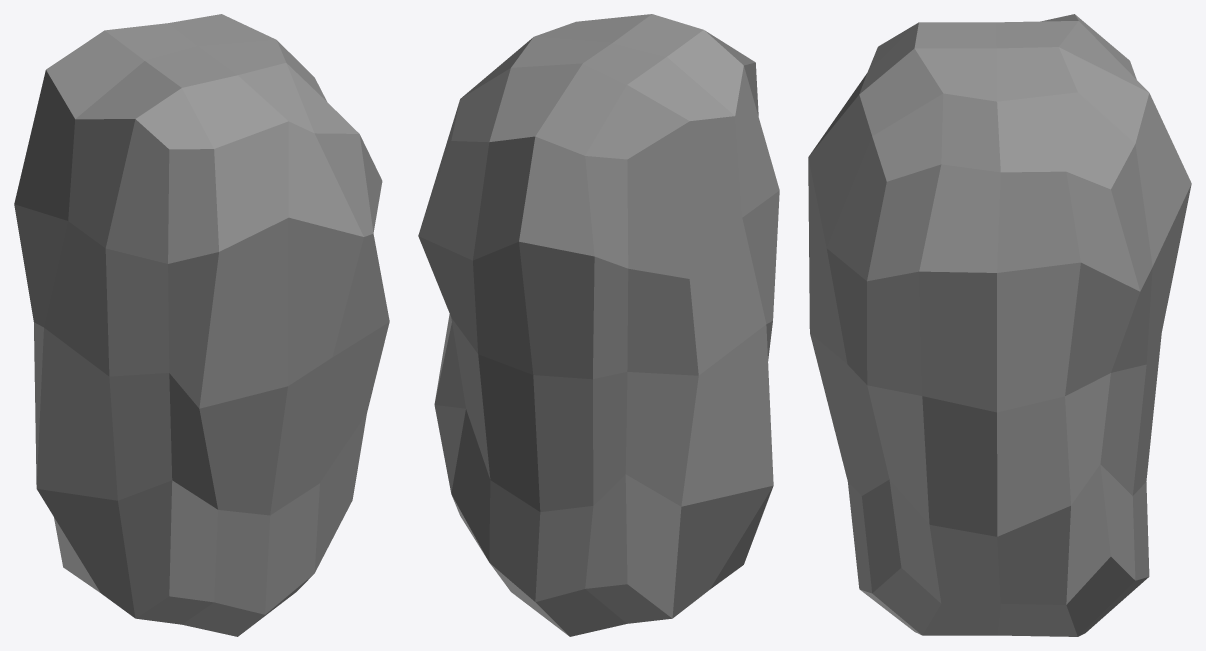
File: Gen_Rock01.fbx
The picture shows the model from 3 angles, left to right: view 1: azimuth 30°, elevation 25°; view 2: azimuth 150°, elevation 25°; view 3: azimuth 270°, elevation 25°; orthographic projection. The views are drawn at different scales.
Parts seen in each view (by area): view 1: Gen_Rock01; view 2: Gen_Rock01; view 3: Gen_Rock01.
Boxes of the visible parts, x1,y1,x2,y2 form: Gen_Rock01: [14, 14, 389, 636]; Gen_Rock01: [418, 14, 779, 636]; Gen_Rock01: [808, 14, 1191, 636].
Bounding box in the file's own units: 128 × 216 × 128.
Materials: 1 (1 with a texture image).
